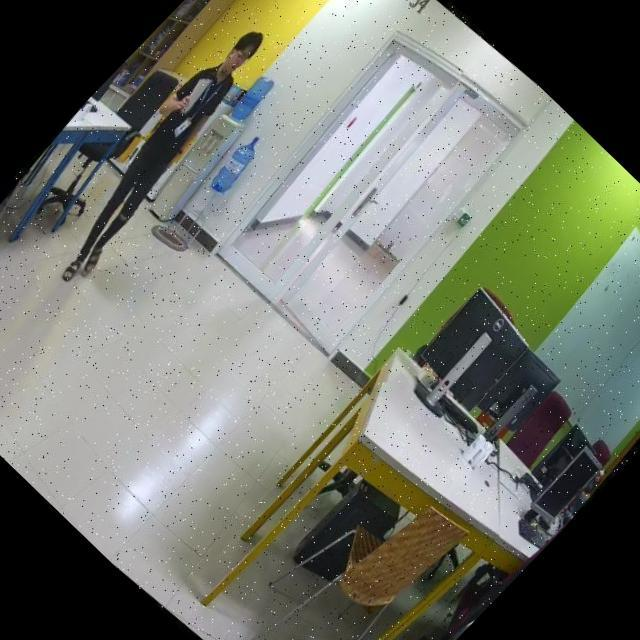person: (22, 12, 298, 294)
